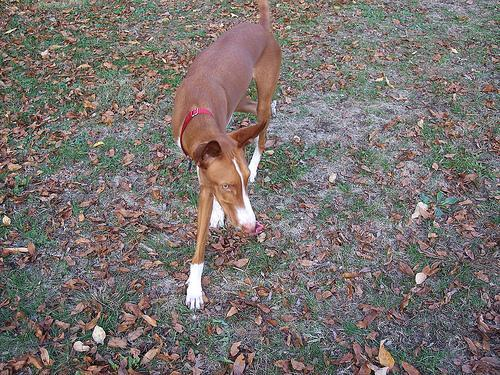Ibizan_hound: (171, 0, 279, 308)
